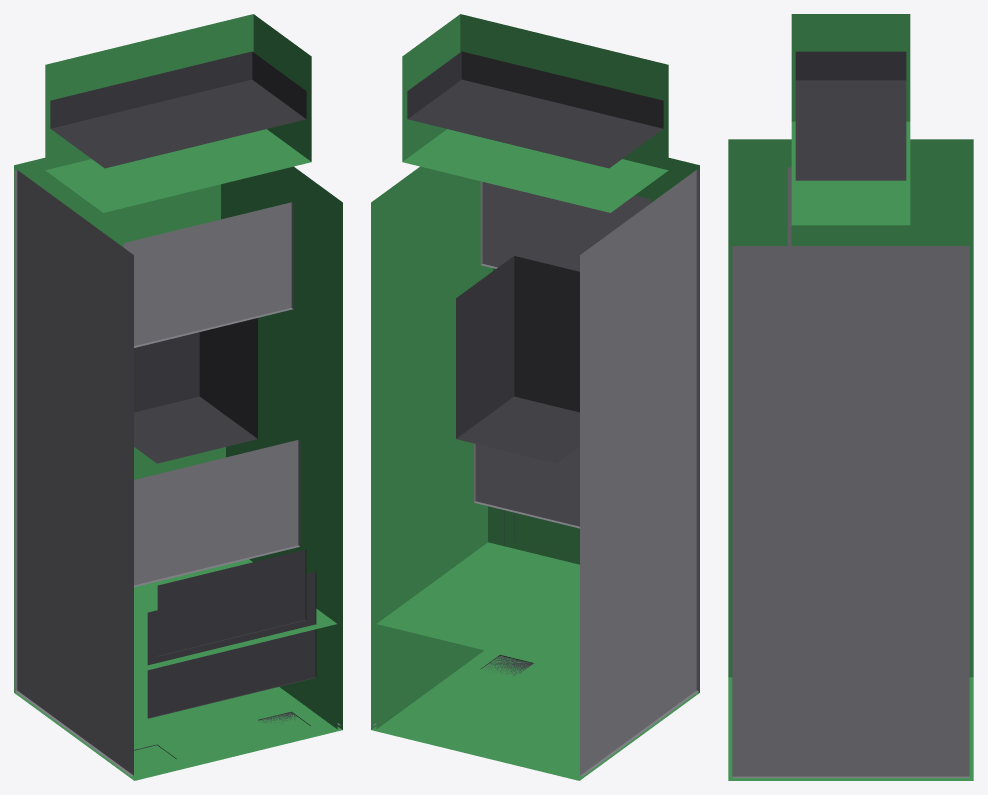
The model's file is cabinet.gltf.
The picture shows the model from 3 angles, left to right: view 1: azimuth 30°, elevation 25°; view 2: azimuth 150°, elevation 25°; view 3: azimuth 270°, elevation 25°; orthographic projection.
Visible parts, largest first — view 1: cabinet; view 2: cabinet; view 3: cabinet.
Boxes of the visible parts, bbox=[...] form: cabinet: bbox=[14, 14, 342, 780]; cabinet: bbox=[371, 14, 699, 780]; cabinet: bbox=[728, 14, 973, 780].
Bounding box in the file's own units: 0.628 × 1.85 × 0.62.
